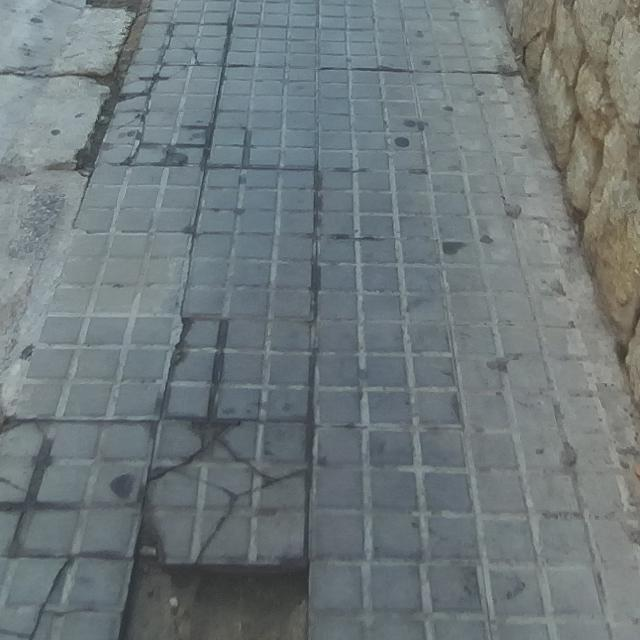calcada_quebrada: (154, 413, 306, 563), (27, 555, 71, 639)
